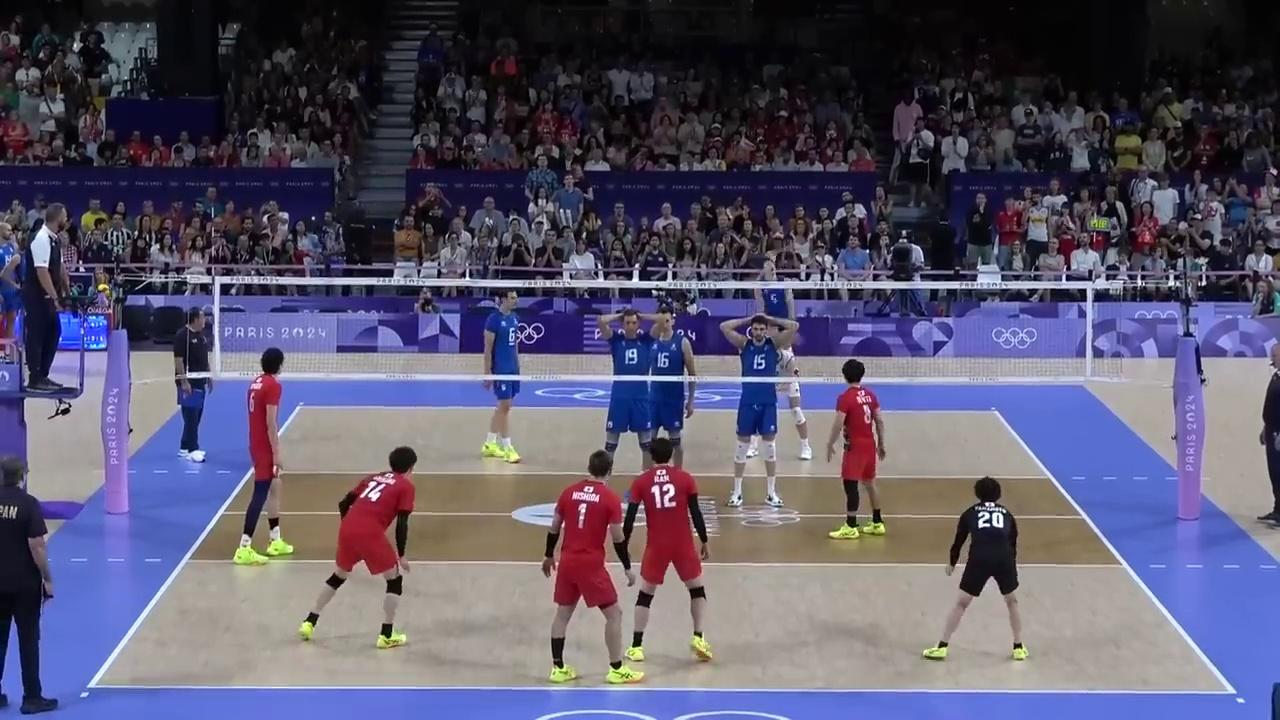ball: (96, 283, 110, 296)
